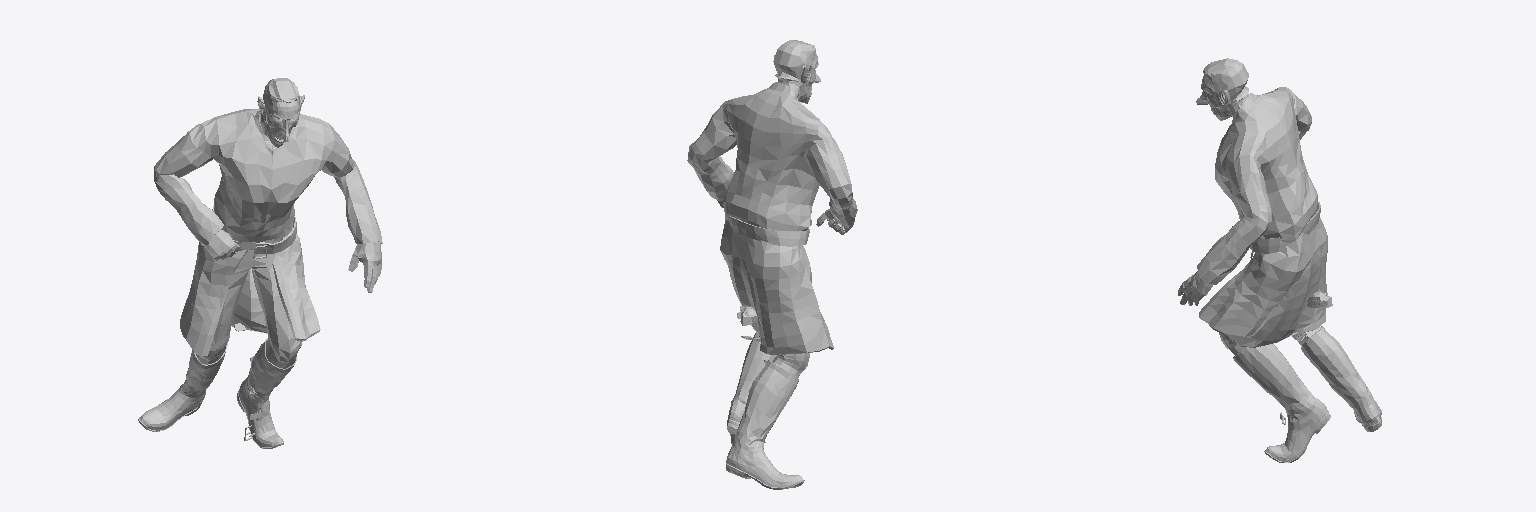
The model's file is sniper-inj-walk_joined_000003.obj.
3 renders of one model, left to right at view 1: azimuth 30°, elevation 25°; view 2: azimuth 150°, elevation 25°; view 3: azimuth 270°, elevation 25°, orthographic.
Parts seen in each view (by area): view 1: Shoes; view 2: Shoes; view 3: Shoes.
Boxes of the visible parts, <box> form: Shoes: <box>138,78,382,448</box>; Shoes: <box>687,40,857,489</box>; Shoes: <box>1178,58,1381,462</box>.
Size of the model in its own units: 1.2 by 2.44 by 1.16.